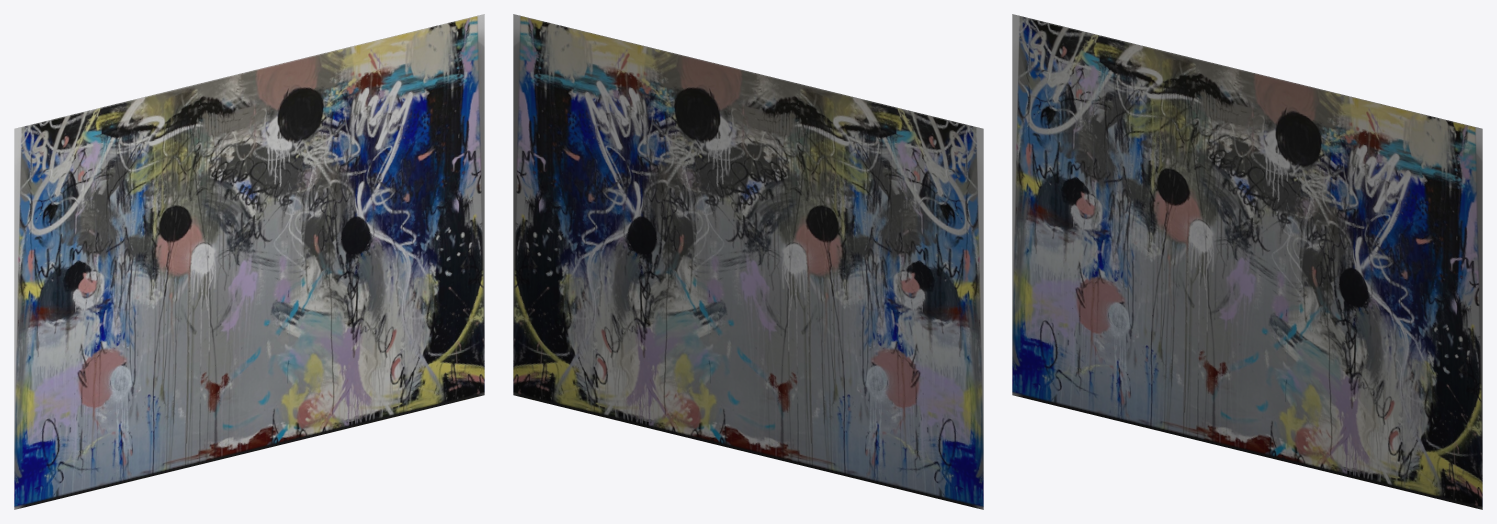
File: Lenny Loco.fbx
3 views of the same model, side by side, from view 1: azimuth 30°, elevation 25°; view 2: azimuth 150°, elevation 25°; view 3: azimuth 330°, elevation 25° (orthographic).
Parts seen in each view (by area): view 1: LennyLoco; view 2: LennyLoco; view 3: LennyLoco.
Part boxes in pixels (box(x1,y1,x2,y2)): LennyLoco: box(14, 14, 484, 509); LennyLoco: box(513, 14, 983, 509); LennyLoco: box(1012, 14, 1482, 509).
Size of the model in its own units: 1.91 by 1.48 by 1.49e-08.
